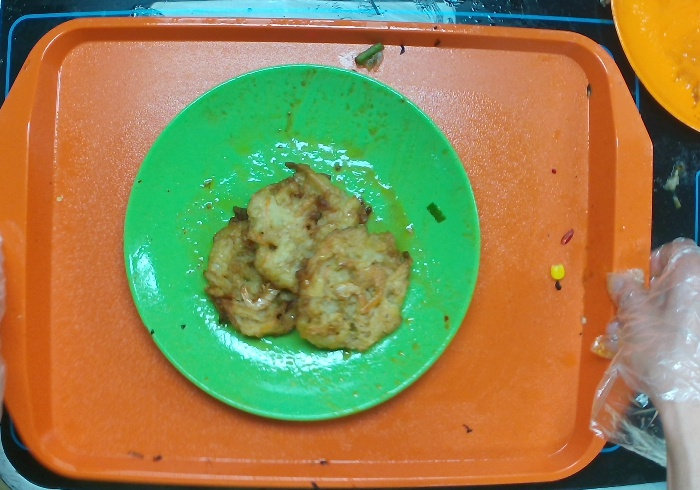HZYJPL-Lv_Se_Yuan_Pan: (120, 62, 482, 423)
